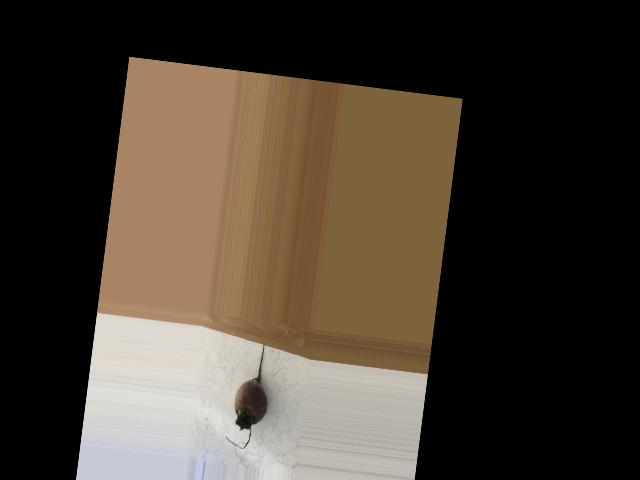beet: (224, 339, 275, 450)
